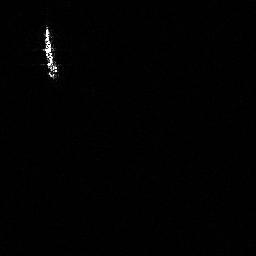ship: (40, 25, 63, 80)
